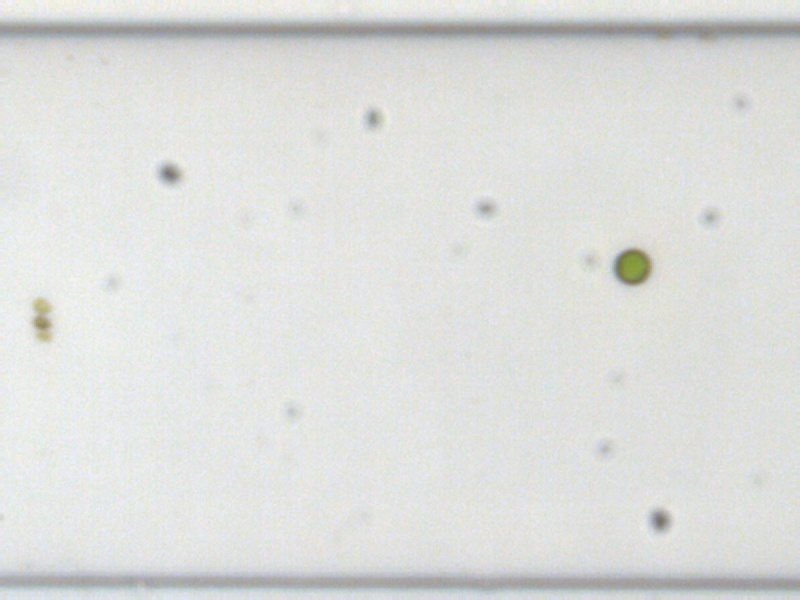Chlorella: (34, 313, 57, 333), (31, 327, 56, 344), (32, 297, 51, 311)
Platymonas: (613, 247, 653, 285)
